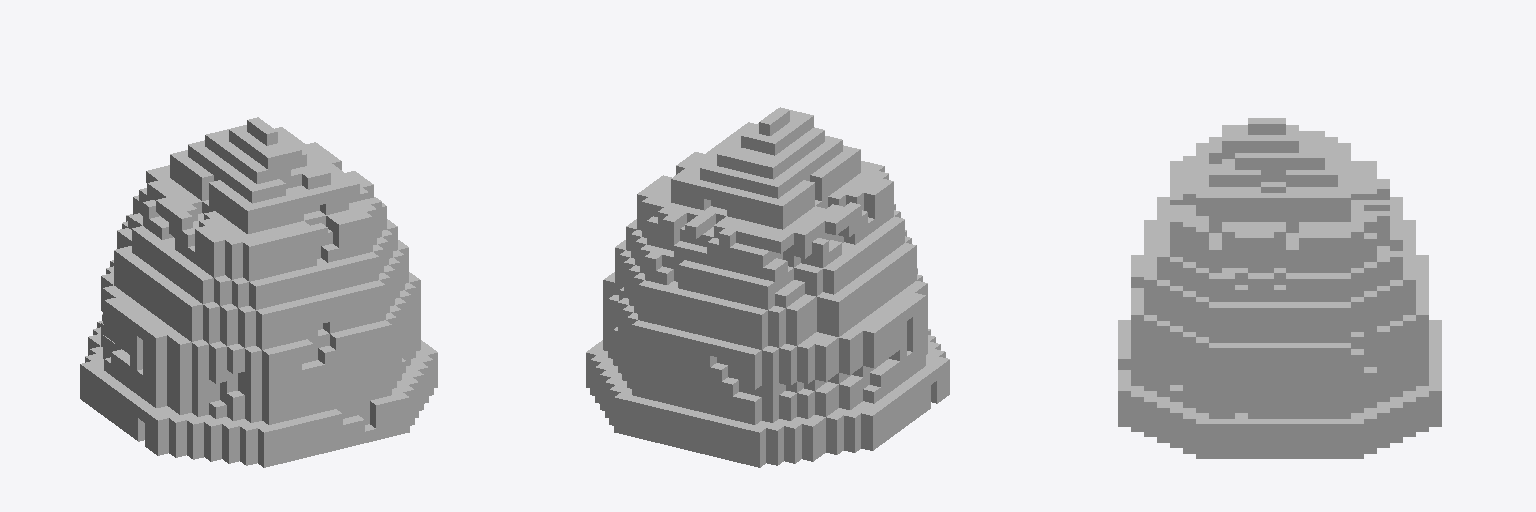
The model's file is woden log end.obj.
3 renders of one model, left to right at view 1: azimuth 30°, elevation 25°; view 2: azimuth 150°, elevation 25°; view 3: azimuth 270°, elevation 25°, orthographic.
Parts seen in each view (by area): view 1: object 1; view 2: object 1; view 3: object 1.
Boxes of the visible parts, <box> form: object 1: <box>80,117,437,467</box>; object 1: <box>586,107,949,467</box>; object 1: <box>1118,118,1441,458</box>.
Size of the model in its own units: 2.5 by 2.3 by 2.5.